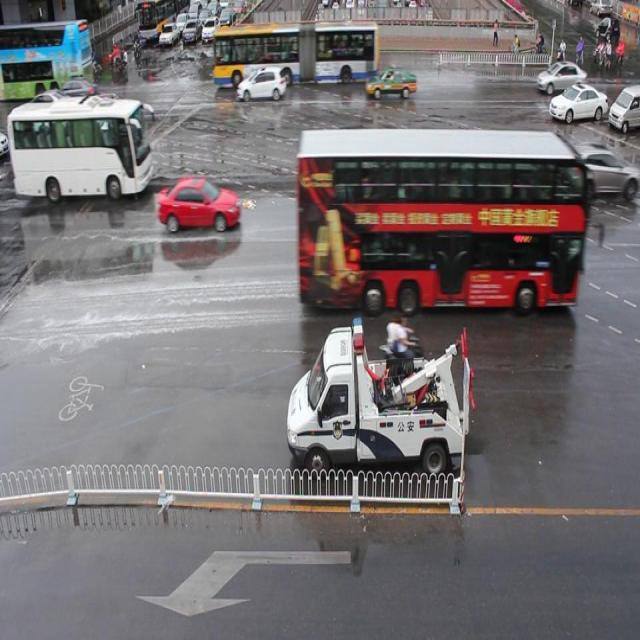car: (155, 175, 240, 233), (556, 141, 640, 195), (548, 84, 607, 122), (536, 60, 586, 95), (366, 65, 416, 99), (237, 68, 286, 100)
van: (297, 127, 580, 314), (9, 98, 150, 192), (211, 21, 377, 82)
